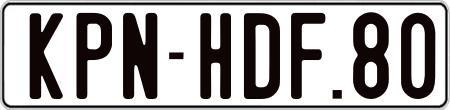0: (400, 10, 437, 102)
8: (351, 11, 390, 99)
D: (243, 12, 280, 104)
F: (288, 13, 322, 100)
H: (197, 13, 230, 101)
K: (30, 13, 65, 99)
N: (123, 10, 160, 98)
P: (76, 12, 115, 98)
